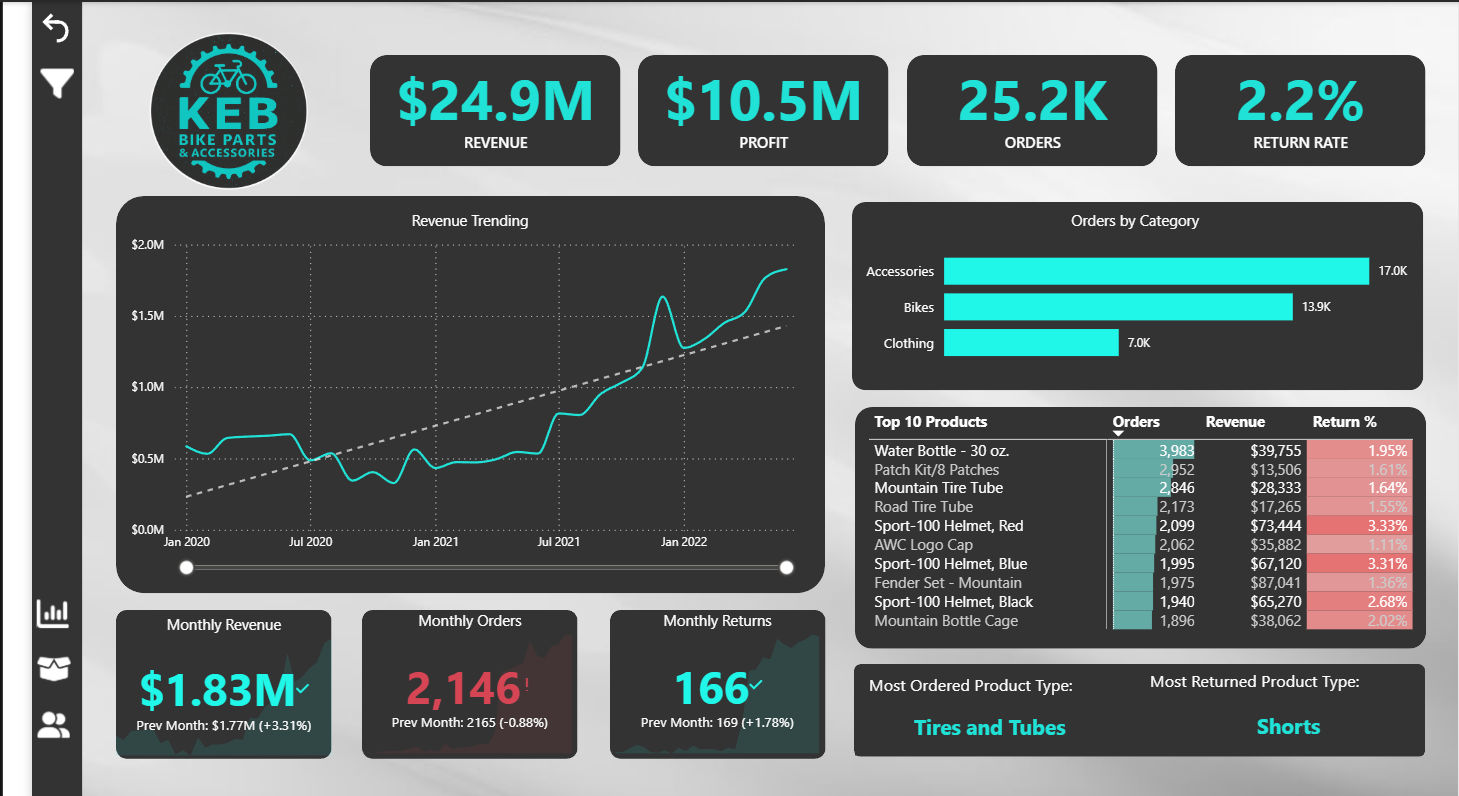

The dashboard page shown, as its layout file describes it:
{"tool":"powerbi","page":{"name":"Exec Dashboard","canvas":[1280,720],"ordinal":0},"visuals":[{"type":"card","fields":{"Values":["Measure Table.Total Revenue"]},"box":[288.1,17.8,256.2,150],"z":0,"group":"g2"},{"type":"shape","box":[303.1,47.8,225,100],"z":0,"group":"g1"},{"type":"shape","box":[735.8,179.8,512.8,169],"z":0},{"type":"card","fields":{"Values":["Measure Table.Total Profit"]},"box":[528.9,17.8,256.2,150],"z":1000,"group":"g2"},{"type":"shape","box":[543.9,47.8,225,100],"z":1000,"group":"g1"},{"type":"shape","box":[737.7,594.3,512.8,83.5],"z":1000},{"type":"card","fields":{"Values":["Measure Table.Total Orders"]},"box":[769.8,17.8,256.2,150],"z":2000,"group":"g2"},{"type":"shape","box":[784.8,47.8,225,100],"z":2000,"group":"g1"},{"type":"shape","box":[738.7,363.5,512.8,217.1],"z":2000},{"type":"card","fields":{"Values":["Measure Table.Return Rate"]},"box":[1010.6,17.8,256.2,150],"z":3000,"group":"g2"},{"type":"shape","box":[1025.6,47.8,225,100],"z":3000,"group":"g1"},{"type":"shape","box":[296.7,546,193.5,133.6],"z":3000},{"type":"shape","box":[518.7,546.2,193.5,133.6],"z":4000},{"type":"shape","box":[75.6,546.2,193.5,133.6],"z":5000},{"type":"actionButton","box":[1,630.7,45.2,37.3],"z":5000,"group":"g3"},{"type":"image","title":"AW Logo","box":[38.3,22.6,276,151.3],"z":6000},{"type":"group","id":"g1","title":"KPI Backgrounds","box":[303.1,47.8,947.5,100],"z":7000},{"type":"shape","box":[75.6,173.9,636.6,356.6],"z":8000},{"type":"shape","title":"Left Nav Background","box":[0,0,45,720],"z":9000},{"type":"group","id":"g2","title":"KPI Values","box":[288.1,17.8,978.8,150],"z":10000},{"type":"lineChart","title":"Revenue Trending","fields":{"Y":["Measure Table.Total Revenue"],"Category":["Calendar Lookup.Start of Month"]},"box":[83.5,186.6,619.9,332],"z":11000},{"type":"kpi","title":"Monthly Revenue","fields":{"Indicator":["Measure Table.Total Revenue"],"TrendLine":["Calendar Lookup.Start of Month"],"Goal":["Measure Table.Previous Month Revenue"]},"box":[85.5,549.1,172.9,127.7],"z":12000},{"type":"kpi","title":"Monthly Orders","fields":{"TrendLine":["Calendar Lookup.Start of Month"],"Indicator":["Measure Table.Total Orders"],"Goal":["Measure Table.Previous Month Orders"]},"box":[305.5,546.2,174.9,133.6],"z":13000},{"type":"kpi","title":"Monthly Returns","fields":{"TrendLine":["Calendar Lookup.Start of Month"],"Indicator":["Measure Table.Total Returns"],"Goal":["Measure Table.Previous Month Returns"]},"box":[528.5,546.2,174.9,133.6],"z":14000},{"type":"clusteredBarChart","title":"Orders by Category","fields":{"Category":["Product Categories Lookup.CategoryName"],"Y":["Measure Table.Total Orders"]},"box":[738.7,186.6,503,150.3],"z":15000},{"type":"pivotTable","fields":{"Rows":["Product Lookup.ProductName"],"Values":["Measure Table.Total Orders","Measure Table.Total Revenue","Measure Table.Return Rate"]},"box":[751.5,367.4,503.9,200.4],"z":16000},{"type":"actionButton","box":[3.3,5.6,35.6,35.6],"z":17000,"group":"g3"},{"type":"card","fields":{"Values":["Min(Product Subcategories Lookup.SubcategoryName)"]},"box":[738.7,628.7,241.7,48.1],"z":17000},{"type":"actionButton","box":[3.4,53.2,38.4,39.6],"z":18000,"group":"g3"},{"type":"textbox","box":[751.5,602.2,196.5,36.3],"z":18000},{"type":"card","fields":{"Values":["Min(Product Subcategories Lookup.SubcategoryName)"]},"box":[1006.9,627.7,241.7,48.1],"z":19000},{"type":"actionButton","box":[0,530.5,45.2,37.3],"z":19500,"group":"g3"},{"type":"actionButton","box":[0.8,580.4,45.6,37.8],"z":20000,"group":"g3"},{"type":"textbox","box":[1004,599.2,199.4,35.4],"z":20000},{"type":"group","id":"g3","title":"navigation buttons","box":[0,5.6,46.4,662.4],"z":22000}]}

Visuals, with their boxes on the page's 1280x720 design canvas (x1, y1, x2, y2). These are canvas units, not pixel positions in the 1459x796 screenshot, which may show the page scaled, cropped or inside an application window:
card - Measure Table.Total Revenue: x1=288, y1=18, x2=544, y2=168
shape: x1=303, y1=48, x2=528, y2=148
shape: x1=736, y1=180, x2=1249, y2=349
card - Measure Table.Total Profit: x1=529, y1=18, x2=785, y2=168
shape: x1=544, y1=48, x2=769, y2=148
shape: x1=738, y1=594, x2=1250, y2=678
card - Measure Table.Total Orders: x1=770, y1=18, x2=1026, y2=168
shape: x1=785, y1=48, x2=1010, y2=148
shape: x1=739, y1=364, x2=1252, y2=581
card - Measure Table.Return Rate: x1=1011, y1=18, x2=1267, y2=168
shape: x1=1026, y1=48, x2=1251, y2=148
shape: x1=297, y1=546, x2=490, y2=680
shape: x1=519, y1=546, x2=712, y2=680
shape: x1=76, y1=546, x2=269, y2=680
actionButton: x1=1, y1=631, x2=46, y2=668
"AW Logo" image: x1=38, y1=23, x2=314, y2=174
"KPI Backgrounds" group: x1=303, y1=48, x2=1251, y2=148
shape: x1=76, y1=174, x2=712, y2=530
"Left Nav Background" shape: x1=0, y1=0, x2=45, y2=720
"KPI Values" group: x1=288, y1=18, x2=1267, y2=168
"Revenue Trending" lineChart: x1=84, y1=187, x2=703, y2=519
"Monthly Revenue" kpi: x1=86, y1=549, x2=258, y2=677
"Monthly Orders" kpi: x1=306, y1=546, x2=480, y2=680
"Monthly Returns" kpi: x1=528, y1=546, x2=703, y2=680
"Orders by Category" clusteredBarChart: x1=739, y1=187, x2=1242, y2=337
pivotTable - Product Lookup.ProductName x Measure Table.Total Orders: x1=752, y1=367, x2=1255, y2=568
actionButton: x1=3, y1=6, x2=39, y2=41
card - Min(Product Subcategories Lookup.SubcategoryName): x1=739, y1=629, x2=980, y2=677
actionButton: x1=3, y1=53, x2=42, y2=93
textbox: x1=752, y1=602, x2=948, y2=638
card - Min(Product Subcategories Lookup.SubcategoryName): x1=1007, y1=628, x2=1249, y2=676
actionButton: x1=0, y1=530, x2=45, y2=568
actionButton: x1=1, y1=580, x2=46, y2=618
textbox: x1=1004, y1=599, x2=1203, y2=635
"navigation buttons" group: x1=0, y1=6, x2=46, y2=668
